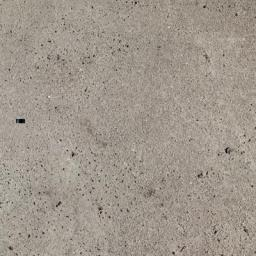FOD: (16, 116, 29, 128)
